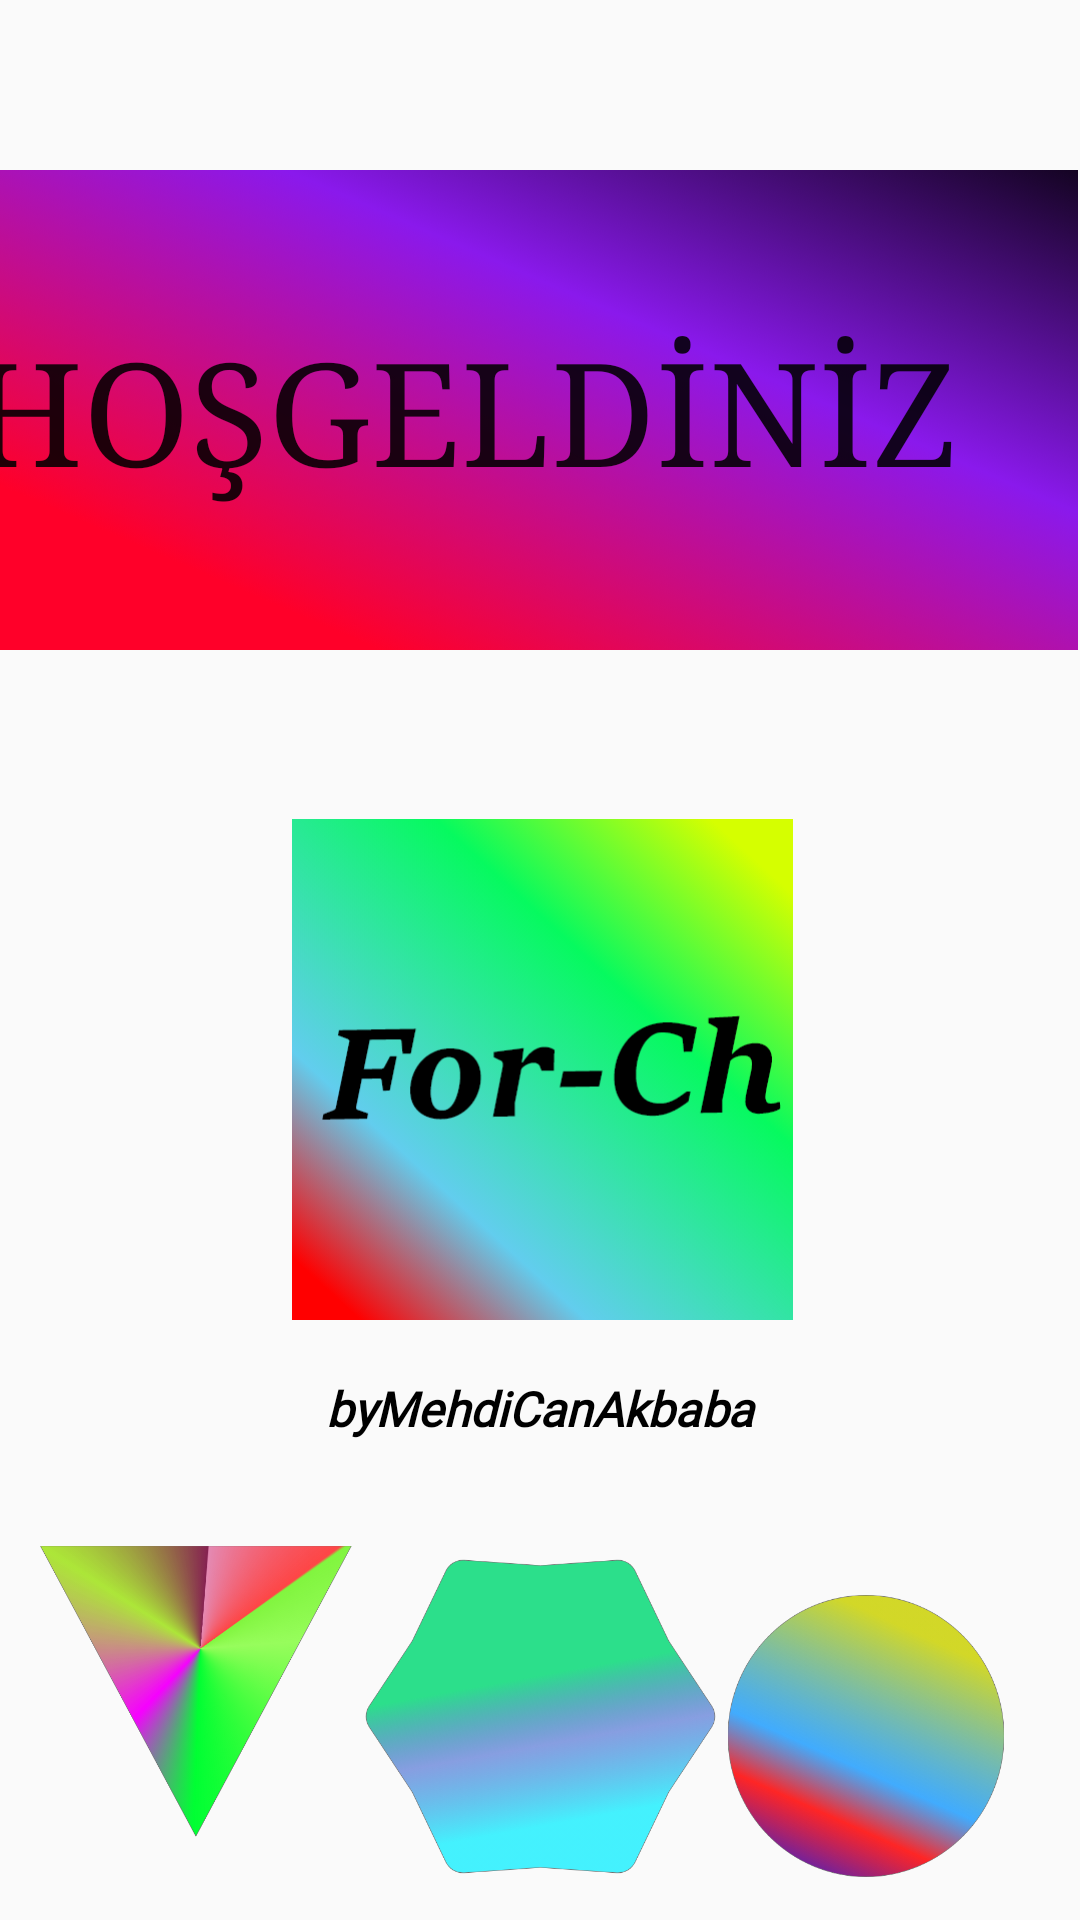

Point at icon controls on the screen. Image size 1080×1920, points as point (x, y).
altigen: point (540, 1716)
oval: point (866, 1736)
ucgen: point (196, 1691)
